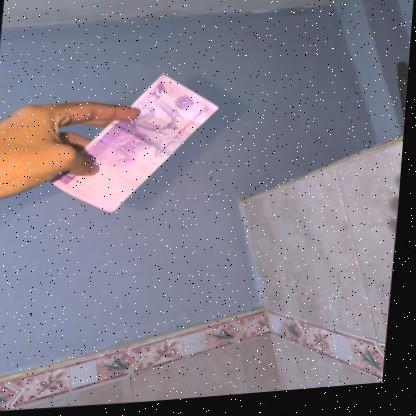one_hundred-back-vef: (48, 69, 225, 221)
